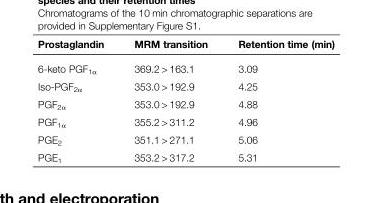table: (37, 37, 333, 163)
table column: (222, 37, 333, 163), (118, 37, 222, 163), (37, 37, 118, 163)
table column header: (37, 37, 333, 55)
table row: (37, 55, 333, 77), (37, 37, 333, 55), (37, 77, 333, 95), (37, 112, 333, 130), (37, 130, 333, 148), (37, 95, 333, 112), (37, 148, 333, 163)
